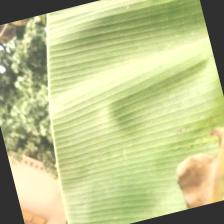healthy: (17, 0, 224, 224)
